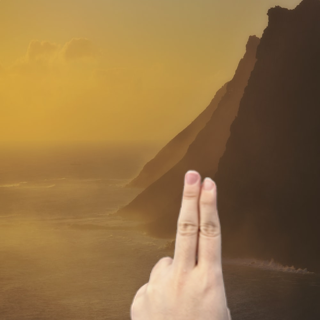DHAVE: (122, 165, 237, 320)
